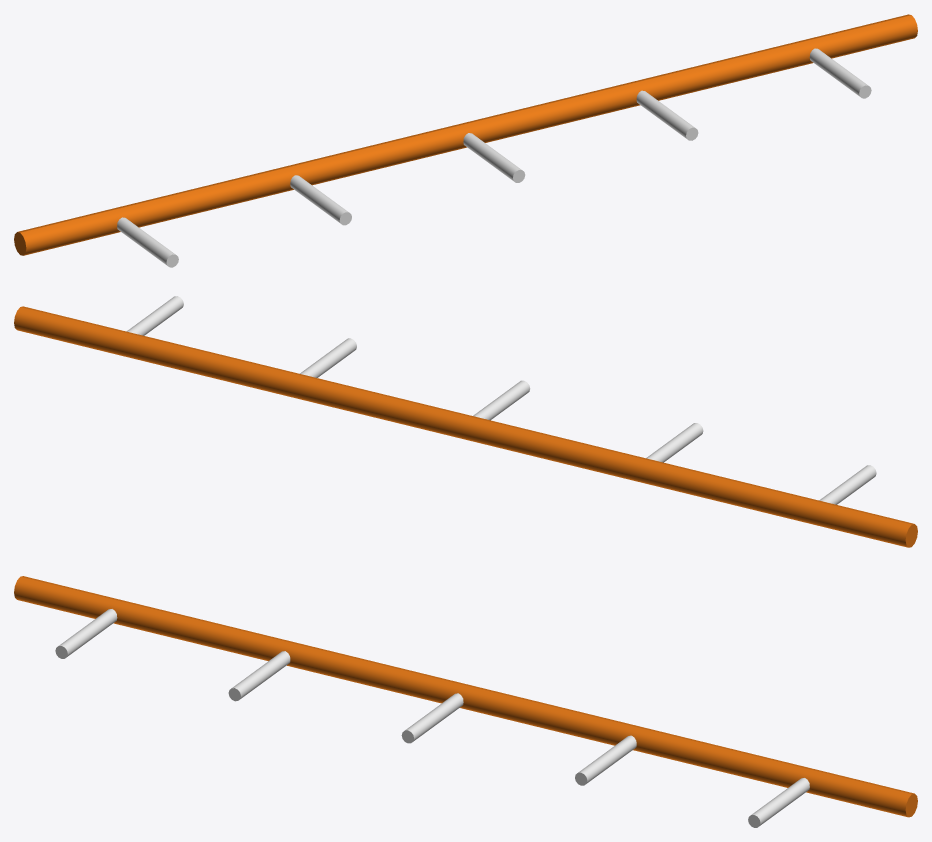
File: Rails_5m_01_mesh.fbx
The picture shows the model from 3 angles, top to bottom: view 1: azimuth 30°, elevation 25°; view 2: azimuth 150°, elevation 25°; view 3: azimuth 330°, elevation 25°; orthographic projection.
Parts seen in each view (by area): view 1: Cylinder.017; view 2: Cylinder.017; view 3: Cylinder.017.
Part boxes in pixels (left/top/right/bottom): Cylinder.017: left=14, top=14, right=917, bottom=267; Cylinder.017: left=14, top=296, right=917, bottom=547; Cylinder.017: left=14, top=576, right=917, bottom=827.
Bounding box in the file's own units: 12 × 500 × 59.95.
